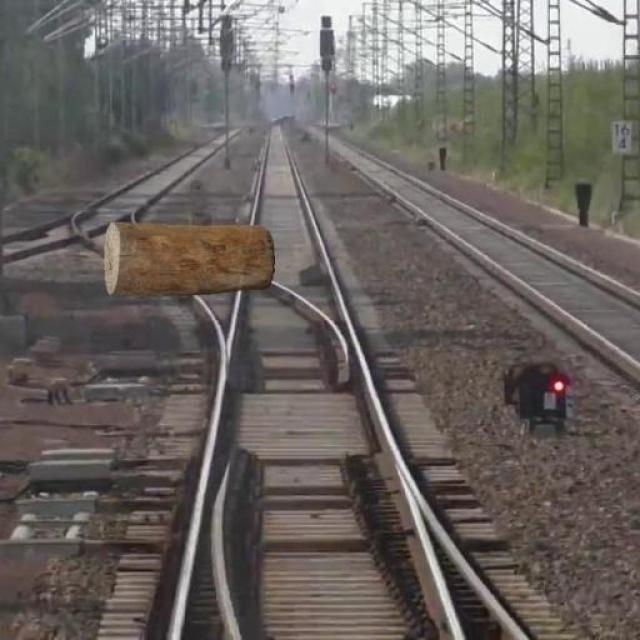Branches: (97, 215, 284, 297)
